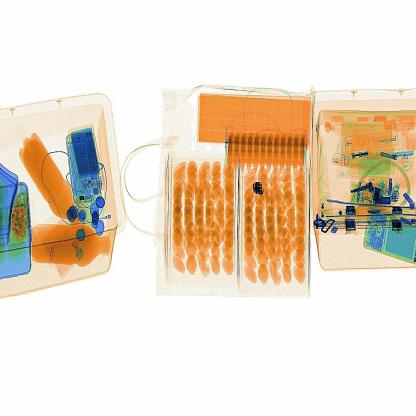scissors: (245, 175, 274, 212)
